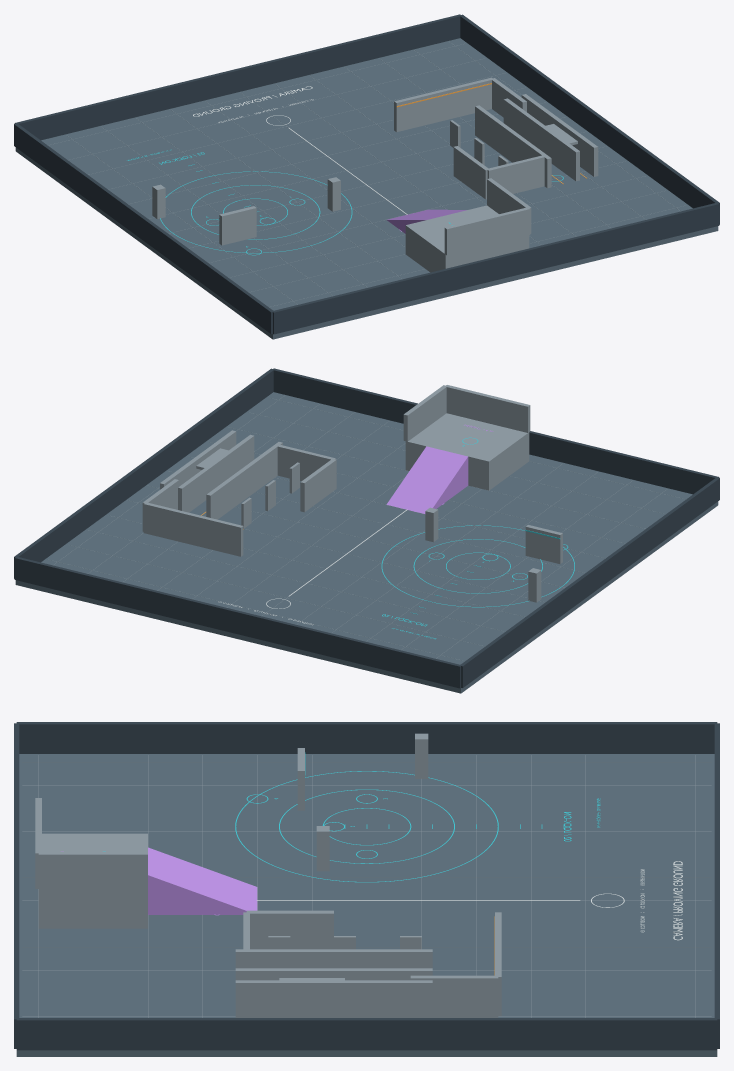
The model's file is CameraTestMap.fbx.
3 renders of one model, top to bottom at view 1: azimuth 30°, elevation 25°; view 2: azimuth 150°, elevation 25°; view 3: azimuth 270°, elevation 25°, orthographic. The views are drawn at different scales.
Visible parts, largest first — view 1: COL_Foundation, COL_BoundaryEnd.001, COL_BoundaryEnd, COL_BoundarySide.001, COL_BoundarySide, COL_UpperDeck, COL_BackWall, COL_UpperBackWall, COL_CorridorWall.001, COL_CorridorWall.002, COL_CornerReturn, COL_CorridorWall (+5 smaller); view 2: COL_Foundation, COL_BoundaryEnd, COL_BoundaryEnd.001, COL_BoundarySide.001, COL_BoundarySide, COL_UpperDeck, COL_Ramp, COL_BackWall, COL_UpperBackWall, COL_CorridorWall.002, COL_CorridorWall.001, COL_UpperSideWall (+5 smaller); view 3: COL_Foundation, COL_BoundarySide, COL_BoundarySide.001, COL_CorridorWall, COL_UpperDeck, COL_Ramp, COL_UpperSideWall, COL_CorridorWall.002, COL_CornerEnd, COL_CornerWing, COL_CorridorWall.001, COL_BoundaryEnd (+9 smaller).
Boxes of the visible parts, x1,y1,x2,y2 form: COL_Foundation: [15, 38, 718, 339]; COL_BoundaryEnd.001: [272, 202, 719, 334]; COL_BoundaryEnd: [14, 14, 461, 140]; COL_BoundarySide.001: [14, 123, 273, 333]; COL_BoundarySide: [459, 14, 719, 224]; COL_UpperDeck: [405, 205, 529, 272]; COL_BackWall: [394, 77, 493, 132]; COL_UpperBackWall: [444, 207, 530, 255]; COL_CorridorWall.001: [503, 98, 579, 181]; COL_CorridorWall.002: [475, 105, 551, 188]; COL_CornerReturn: [487, 155, 544, 193]; COL_CorridorWall: [521, 94, 598, 176]; COL_Foundation: [15, 392, 718, 693]; COL_BoundaryEnd: [14, 556, 461, 688]; COL_BoundaryEnd.001: [272, 368, 719, 494]; COL_BoundarySide.001: [460, 477, 719, 687]; COL_BoundarySide: [14, 368, 273, 578]; COL_UpperDeck: [405, 413, 529, 490]; COL_Ramp: [386, 446, 468, 513]; COL_BackWall: [143, 502, 243, 556]; COL_UpperBackWall: [445, 385, 530, 432]; COL_CorridorWall.002: [206, 442, 282, 519]; COL_CorridorWall.001: [178, 434, 254, 512]; COL_UpperSideWall: [403, 385, 446, 441]; COL_Foundation: [16, 754, 717, 1056]; COL_BoundarySide: [16, 1018, 717, 1050]; COL_BoundarySide.001: [16, 722, 717, 753]; COL_CorridorWall: [235, 980, 432, 1017]; COL_UpperDeck: [38, 833, 147, 928]; COL_Ramp: [148, 847, 257, 914]; COL_UpperSideWall: [38, 852, 147, 890]; COL_CorridorWall.002: [235, 949, 432, 968]; COL_CornerEnd: [246, 910, 333, 949]; COL_CornerWing: [410, 975, 498, 1017]; COL_CorridorWall.001: [235, 968, 432, 980]; COL_BoundaryEnd: [714, 723, 719, 1048].
Size of what is drawn, in the model's own units: 6450 by 840 by 6450.
